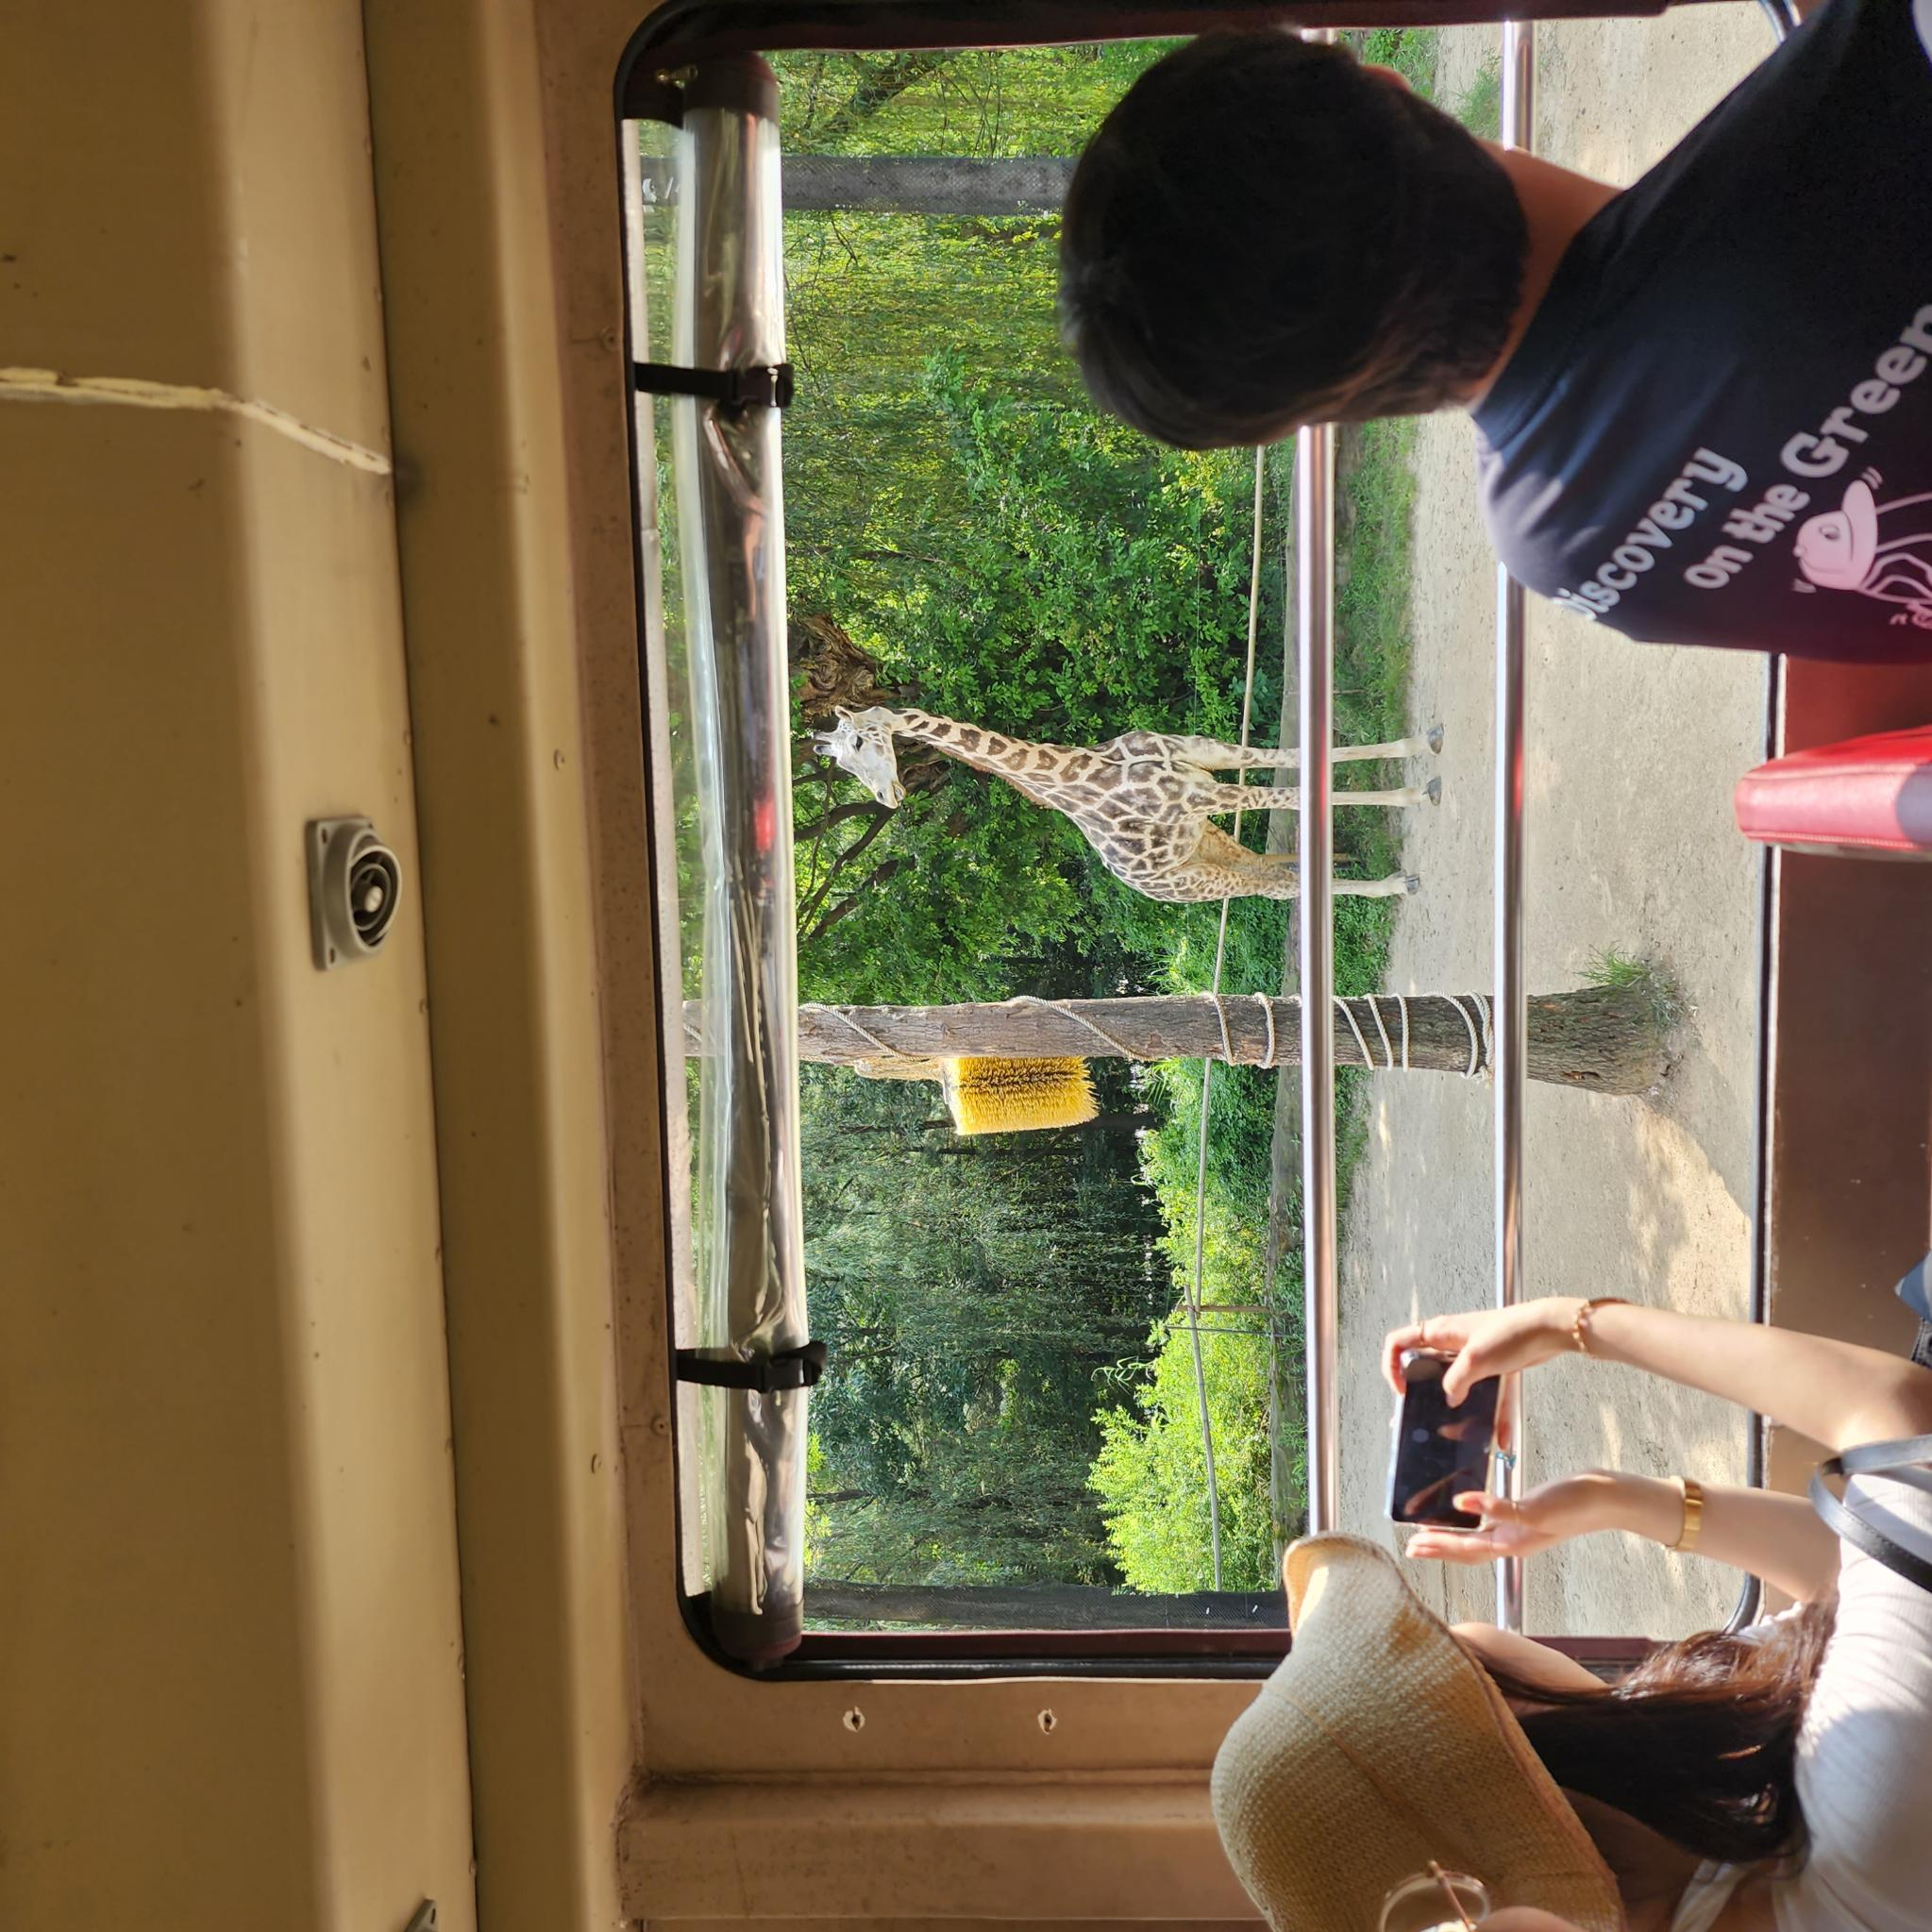giraffe: (1026, 807, 1231, 1444)
